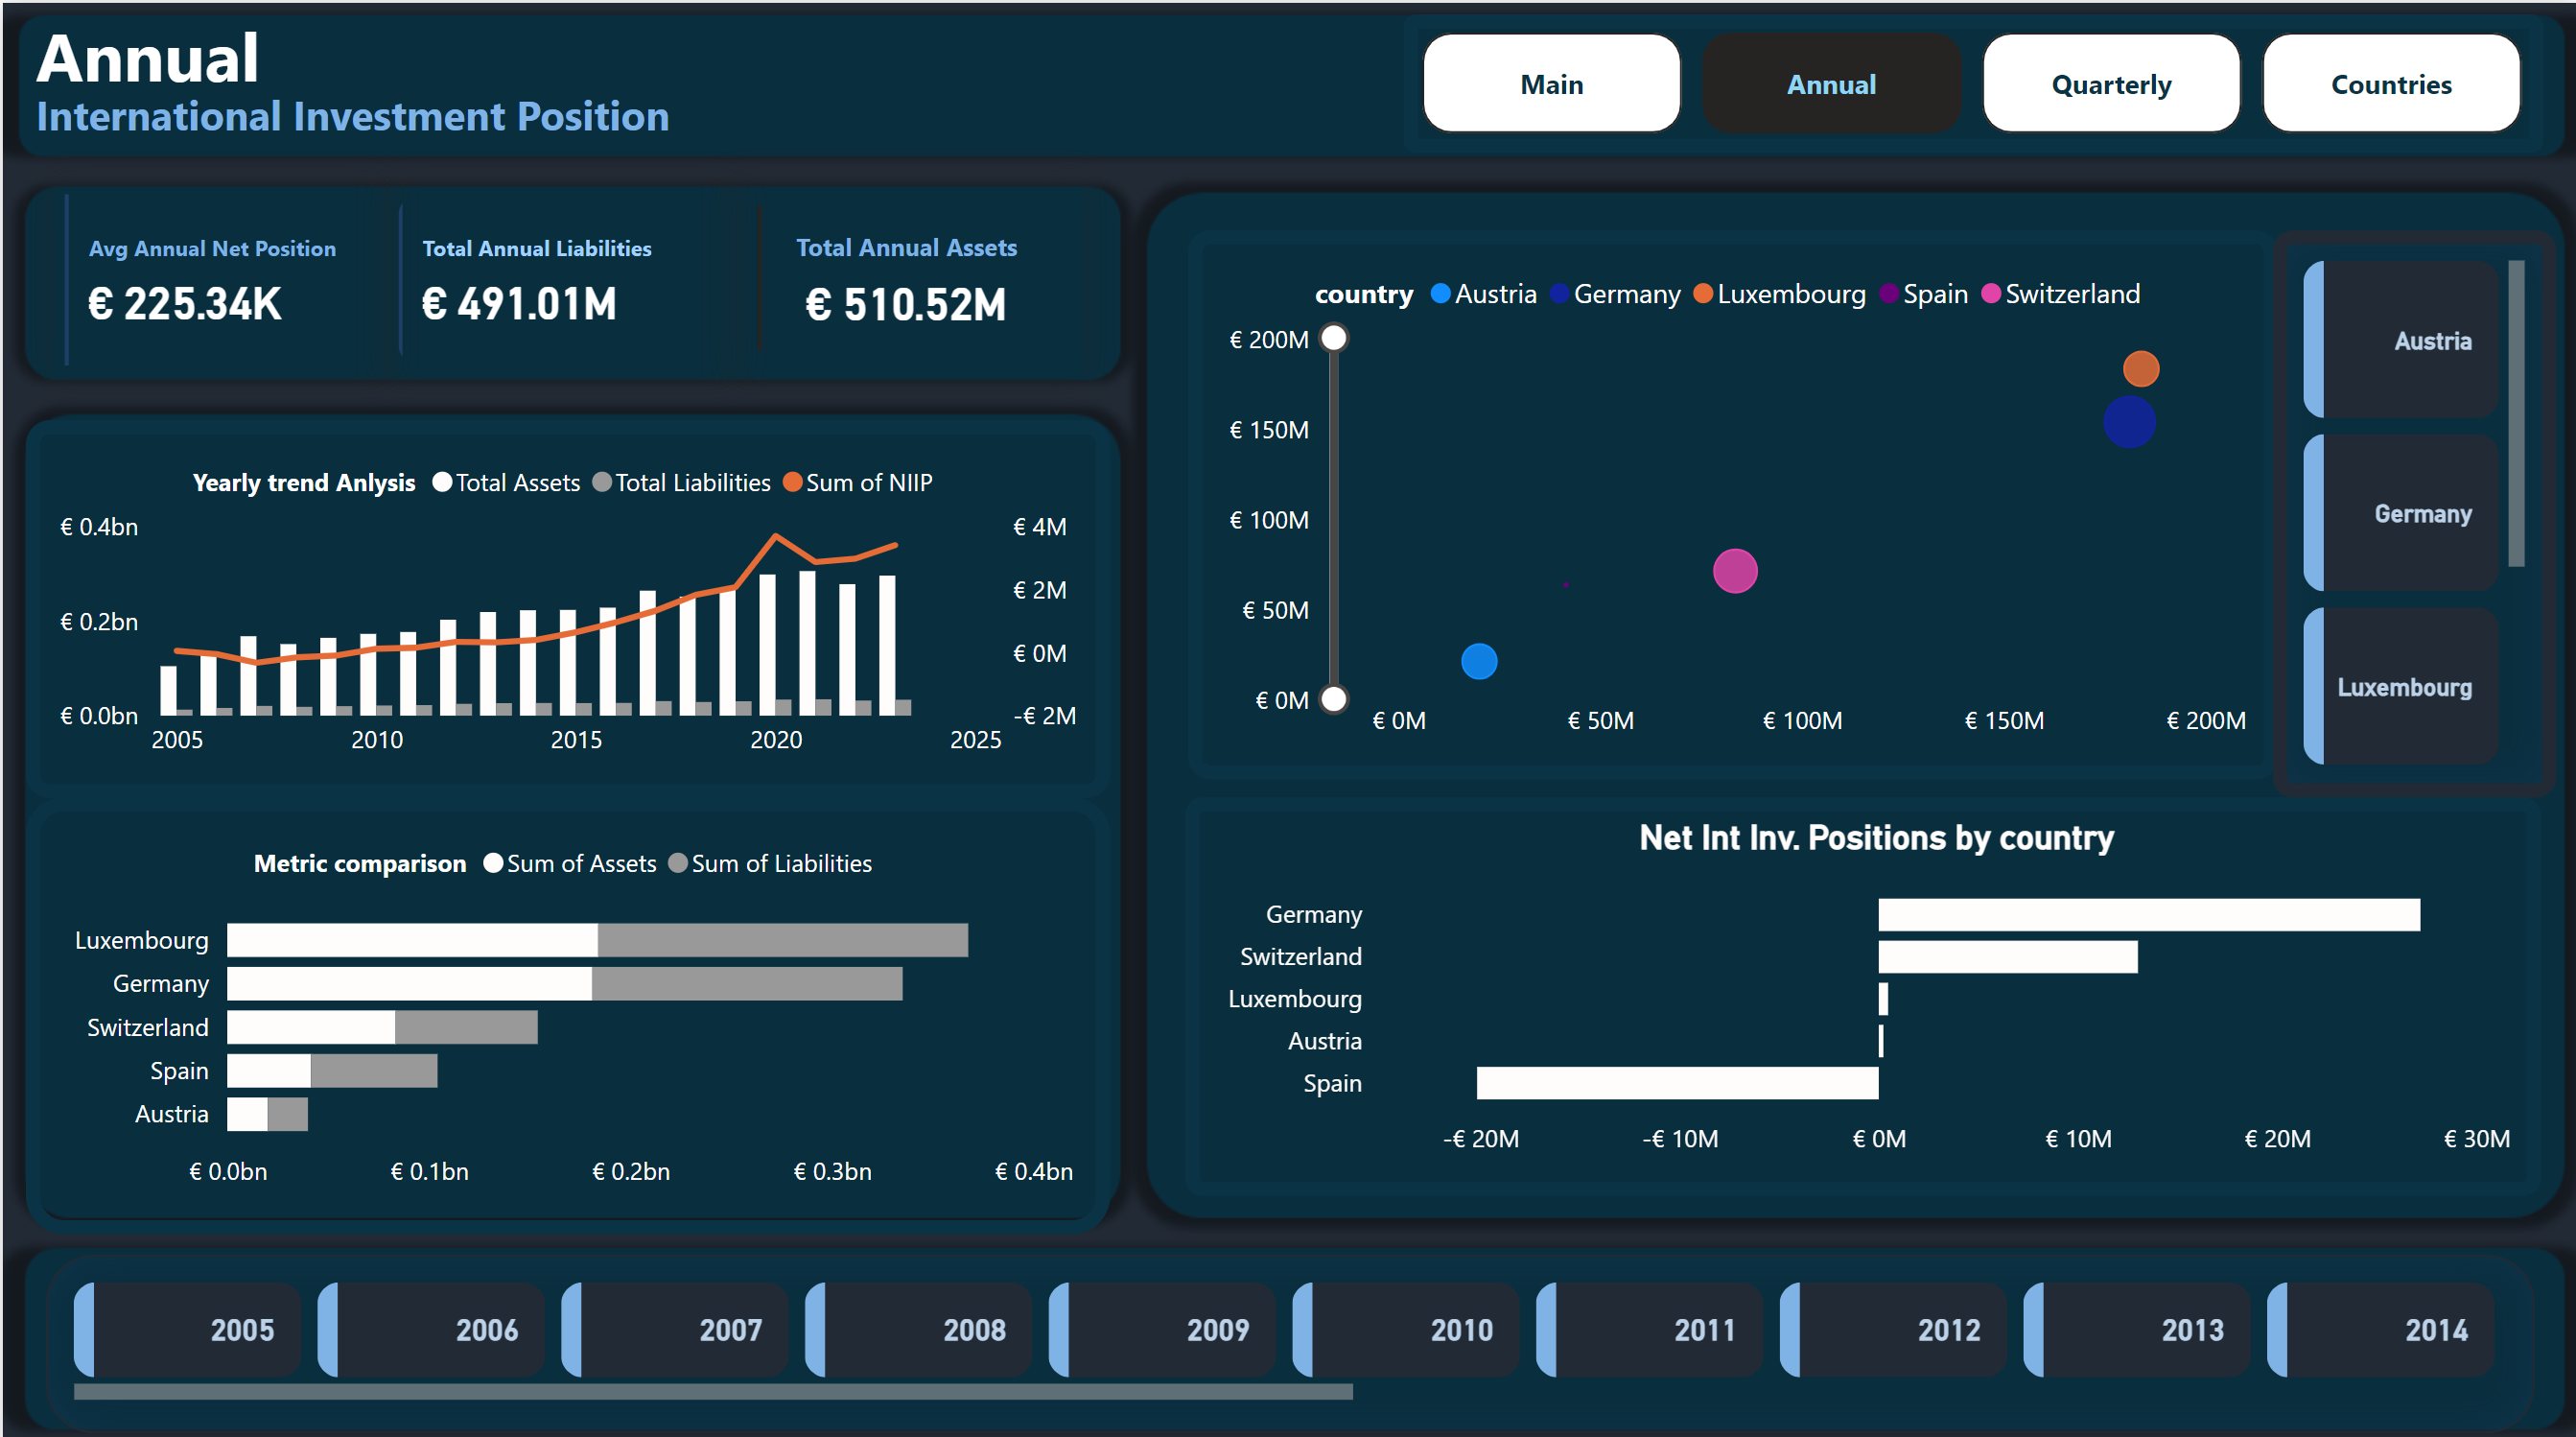

The page's visual inventory and layout, read from the dashboard file:
{"tool":"powerbi","page":{"name":"Annual","canvas":[1280,720],"ordinal":1},"visuals":[{"type":"cardVisual","fields":{"Data":["public annual_data.Total Annual Assets"]},"box":[362.4,88.7,172.9,96.9],"z":0},{"type":"cardVisual","fields":{"Data":["public annual_data.Avg Annual Net Position"]},"box":[26.4,90.3,164.6,95.4],"z":1000},{"type":"cardVisual","fields":{"Data":["public annual_data.Total Annual Liabilities"]},"box":[191,90.2,171.4,95.4],"z":2000},{"type":"lineClusteredColumnComboChart","fields":{"Category":["public annual_data.year"],"Y":["public annual_data.Total Assets","public annual_data.Total Liabilities"],"Y2":["public annual_data.Sum of NIIP"]},"box":[11.7,206.8,538.2,187.7],"z":3000},{"type":"barChart","fields":{"Category":["public countries.country"],"Y":["public annual_data.Sum of Assets","public annual_data.Sum of Liabilities"]},"box":[11.7,394.5,538.2,217],"z":4000},{"type":"scatterChart","fields":{"X":["public annual_data.Sum of Assets"],"Y":["public annual_data.Sum of Liabilities"],"Size":["public annual_data.Sum of NIIP"],"Series":["public countries.country"]},"box":[588,112.9,541.1,272.7],"z":5000},{"type":"textbox","title":"Annual","box":[11.8,2.6,364.6,67.9],"z":6000},{"type":"advancedSlicerVisual","fields":{"Values":["countries.country"]},"box":[1127.7,112.9,140.8,281.5],"z":7000},{"type":"clusteredBarChart","title":"Net Int Inv. Positions by country","fields":{"Category":["countries.country"],"Y":["annual_data.Sum of NIIP"]},"box":[586.6,394.5,673.1,198],"z":8000},{"type":"pageNavigator","box":[695.7,5.7,565.7,68.6],"z":9000},{"type":"advancedSlicerVisual","fields":{"Values":["annual_data.year"]},"box":[21.4,621.4,1235.7,88.6],"z":10000}]}

Visuals, with their boxes in screenshot pixels (x1, y1, x2, y2), scaled from the page's 1280x720 canvas onto the 2576x1437 screenshot:
cardVisual - public annual_data.Total Annual Assets: left=729, top=177, right=1077, bottom=370
cardVisual - public annual_data.Avg Annual Net Position: left=53, top=180, right=385, bottom=370
cardVisual - public annual_data.Total Annual Liabilities: left=385, top=180, right=729, bottom=370
lineClusteredColumnComboChart - public annual_data.year x public annual_data.Total Assets: left=24, top=412, right=1107, bottom=788
barChart - public countries.country x public annual_data.Sum of Assets: left=24, top=788, right=1107, bottom=1220
scatterChart - public annual_data.Sum of Assets x public annual_data.Sum of Liabilities: left=1183, top=225, right=2272, bottom=769
"Annual" textbox: left=24, top=5, right=758, bottom=141
advancedSlicerVisual - countries.country: left=2269, top=225, right=2553, bottom=788
"Net Int Inv. Positions by country" clusteredBarChart: left=1181, top=788, right=2535, bottom=1183
pageNavigator: left=1400, top=12, right=2539, bottom=149
advancedSlicerVisual - annual_data.year: left=43, top=1240, right=2530, bottom=1417
